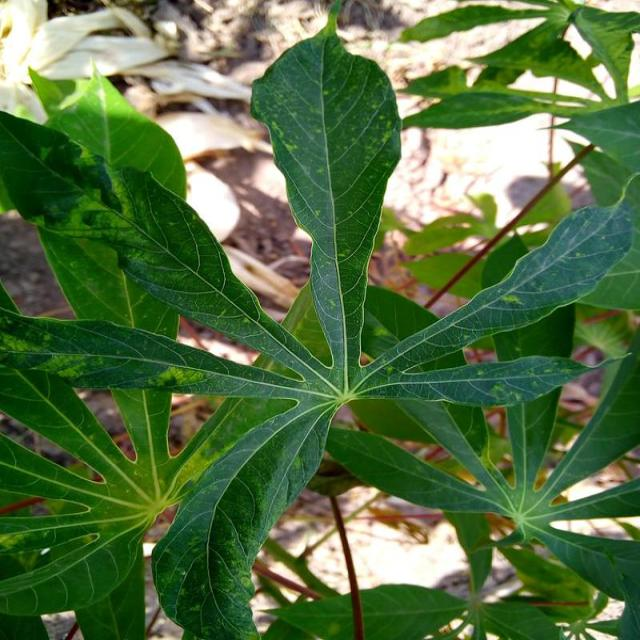cassava leaf: (1, 2, 637, 637), (248, 1, 402, 390)
